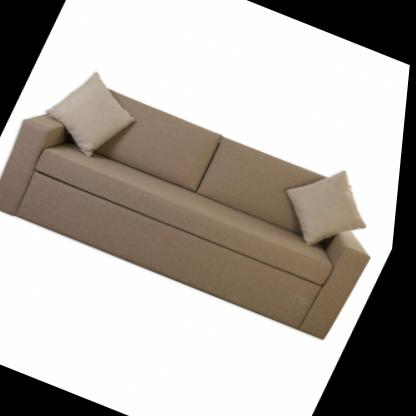Sofa: (0, 58, 412, 344)
